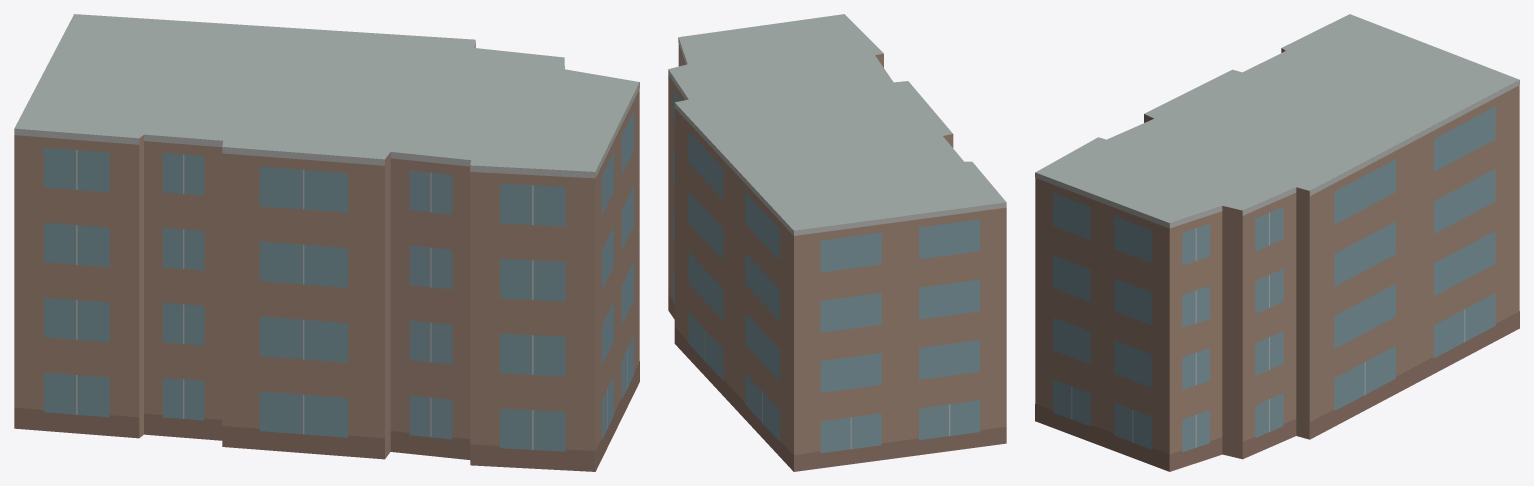
Rendered from survey-upis-32772467.glb.
3 views of the same model, side by side, from view 1: azimuth 30°, elevation 25°; view 2: azimuth 150°, elevation 25°; view 3: azimuth 270°, elevation 25° (orthographic). The views are drawn at different scales.
Parts seen in each view (by area): view 1: survey-upis-32772467.tmp; view 2: survey-upis-32772467.tmp; view 3: survey-upis-32772467.tmp.
Part boxes in pixels (<box>): survey-upis-32772467.tmp: <box>14,14,639,471</box>; survey-upis-32772467.tmp: <box>668,14,1006,471</box>; survey-upis-32772467.tmp: <box>1035,14,1519,471</box>.
Bounding box in the file's own units: 20.39 × 11.3 × 19.96.
